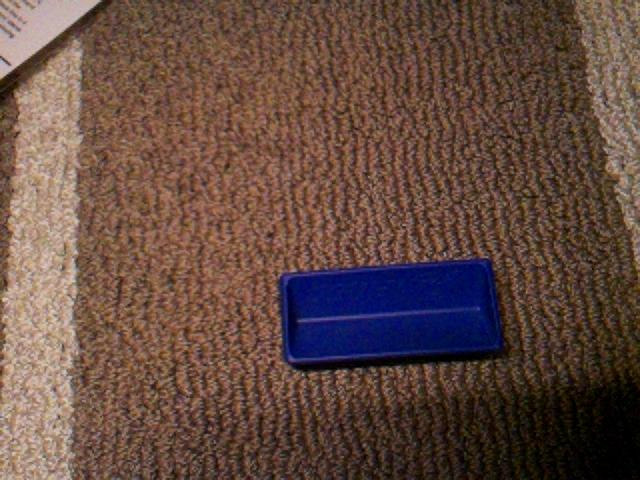blue: (279, 257, 505, 368)
